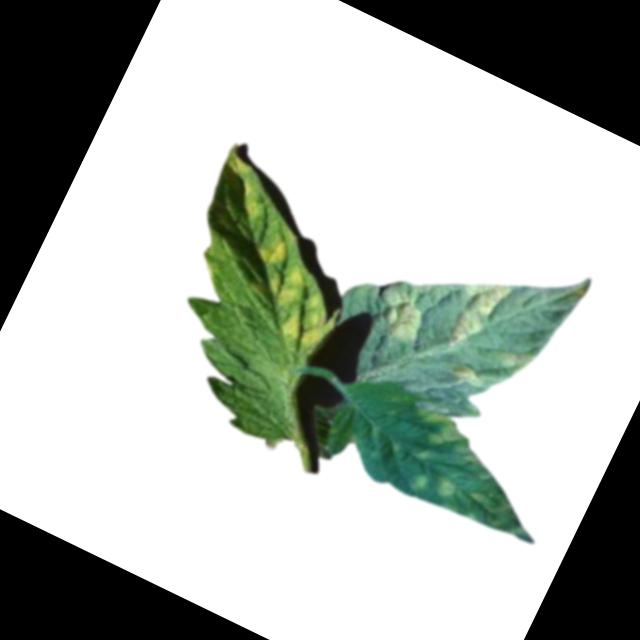Leaf_Mold: (228, 231, 361, 361), (434, 265, 516, 362), (365, 281, 435, 348), (411, 405, 469, 455), (230, 178, 270, 220), (445, 358, 487, 392), (403, 463, 435, 496), (431, 473, 461, 504)
